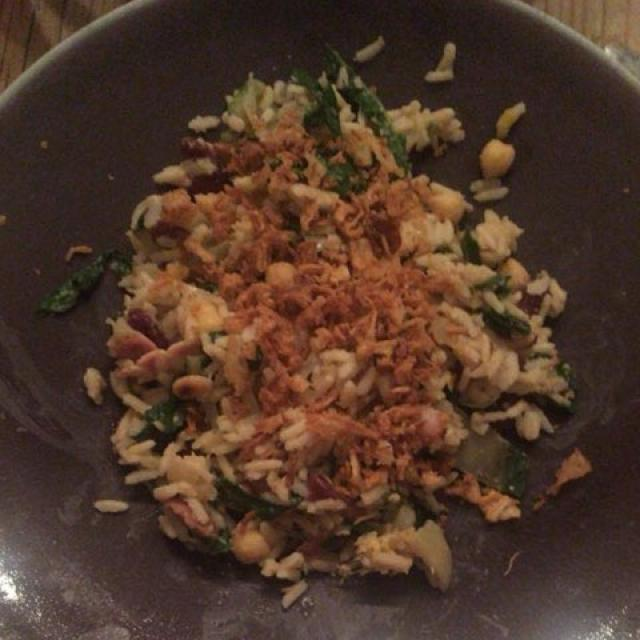cheese: (30, 68, 549, 604)
rice: (117, 91, 568, 601)
